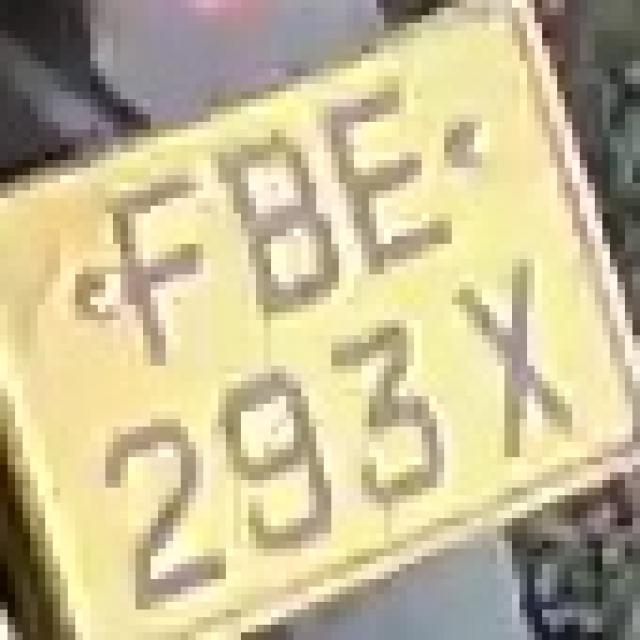2: (83, 419, 241, 617)
3: (301, 320, 444, 526)
9: (211, 366, 331, 579)
B: (188, 114, 376, 328)
E: (316, 84, 459, 274)
F: (83, 152, 211, 381)
X: (429, 237, 587, 472)
